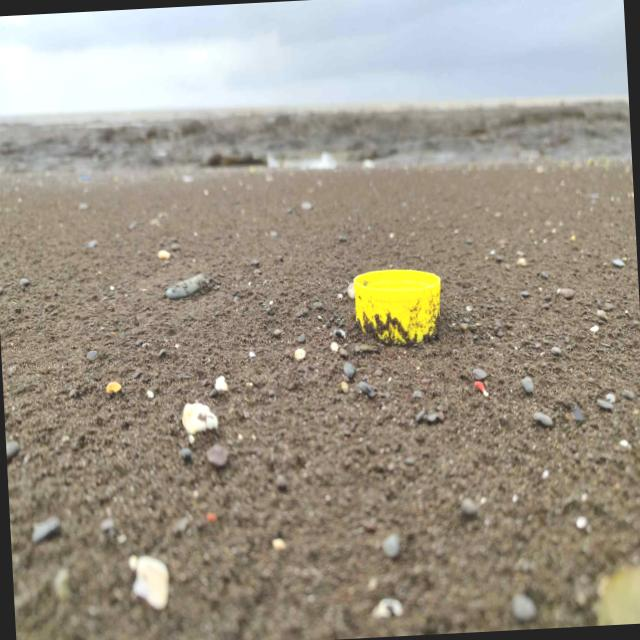hop_nhua: (354, 269, 441, 345)
